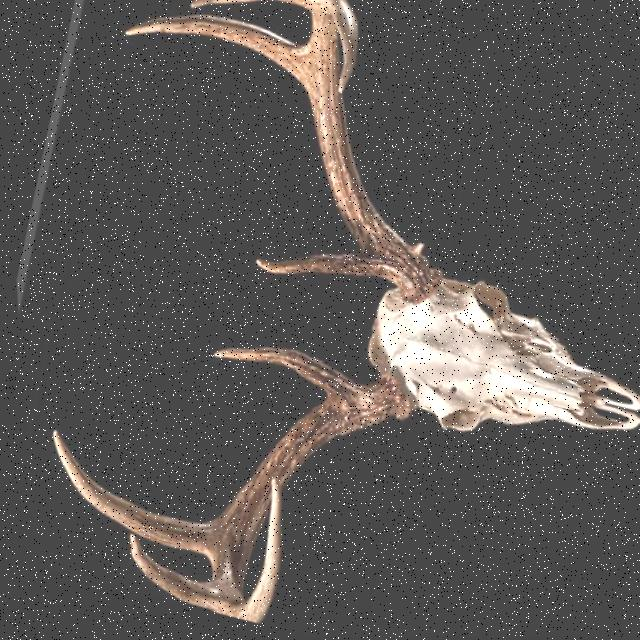L-F: (206, 373, 407, 624)
L-G1: (208, 345, 350, 397)
L-G2: (46, 424, 212, 562)
L-G3: (121, 533, 208, 613)
R-F: (308, 0, 440, 307)
R-G1: (251, 252, 373, 276)
R-G2: (123, 11, 309, 95)
R-G3: (188, 0, 313, 13)
